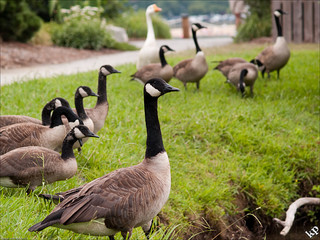goose: (29, 77, 181, 240), (1, 124, 98, 191), (1, 96, 72, 150), (128, 3, 164, 81), (172, 21, 210, 92), (256, 9, 291, 80), (90, 63, 123, 129), (131, 44, 176, 86), (225, 61, 259, 98), (77, 83, 99, 129)
